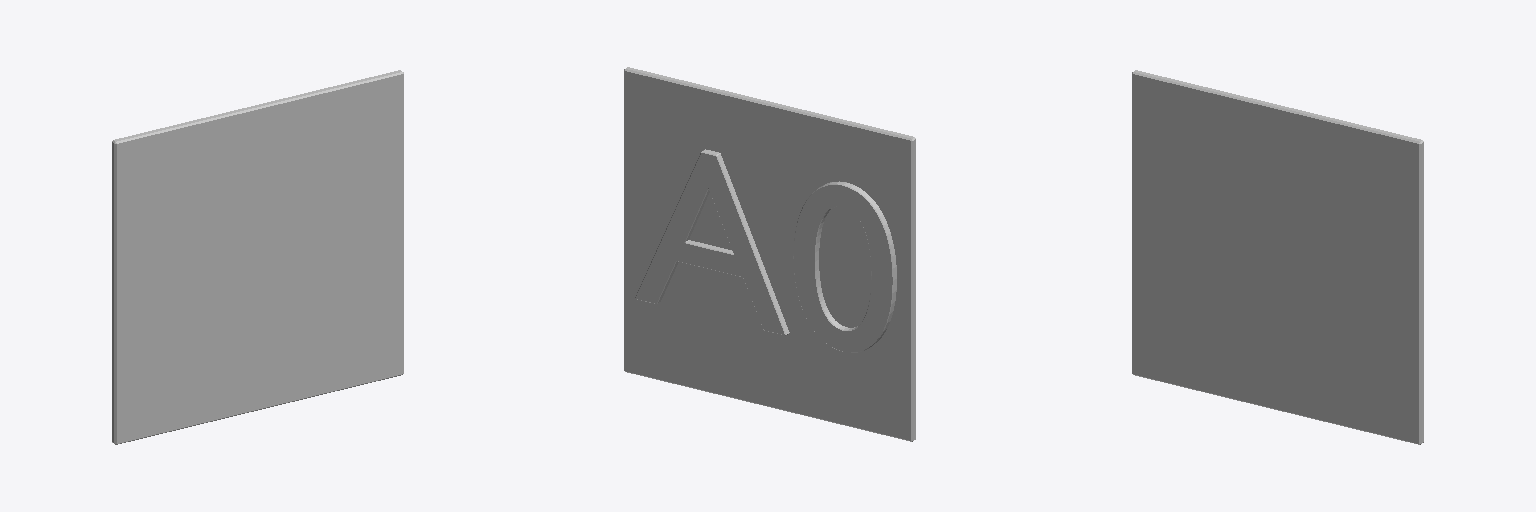
File: panel_A0.obj
3 renders of one model, left to right at view 1: azimuth 30°, elevation 25°; view 2: azimuth 150°, elevation 25°; view 3: azimuth 330°, elevation 25°, orthographic.
Visible parts, largest first — view 1: Plane; view 2: Plane, Text; view 3: Plane.
Boxes of the visible parts, box(x1,y1,x2,y2) form: Plane: box(112, 70, 403, 444); Plane: box(624, 67, 915, 441); Text: box(635, 149, 896, 352); Plane: box(1132, 70, 1423, 444).
Size of the model in its own units: 4 by 4 by 0.2.